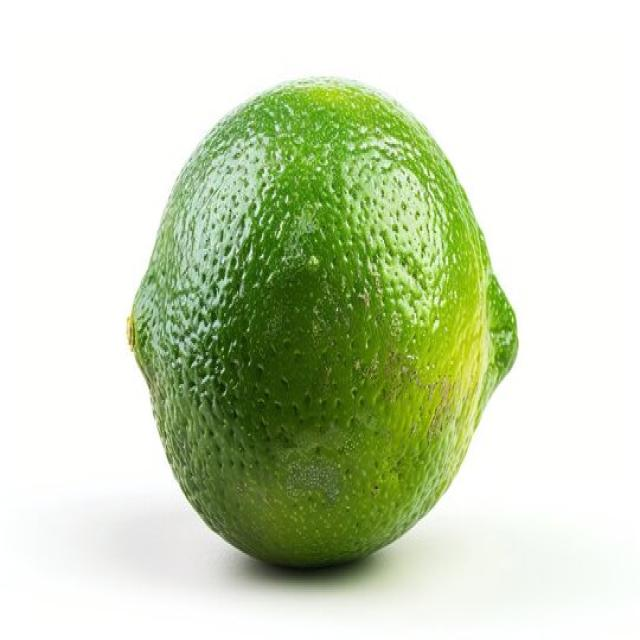Lemon: (126, 73, 519, 571)
